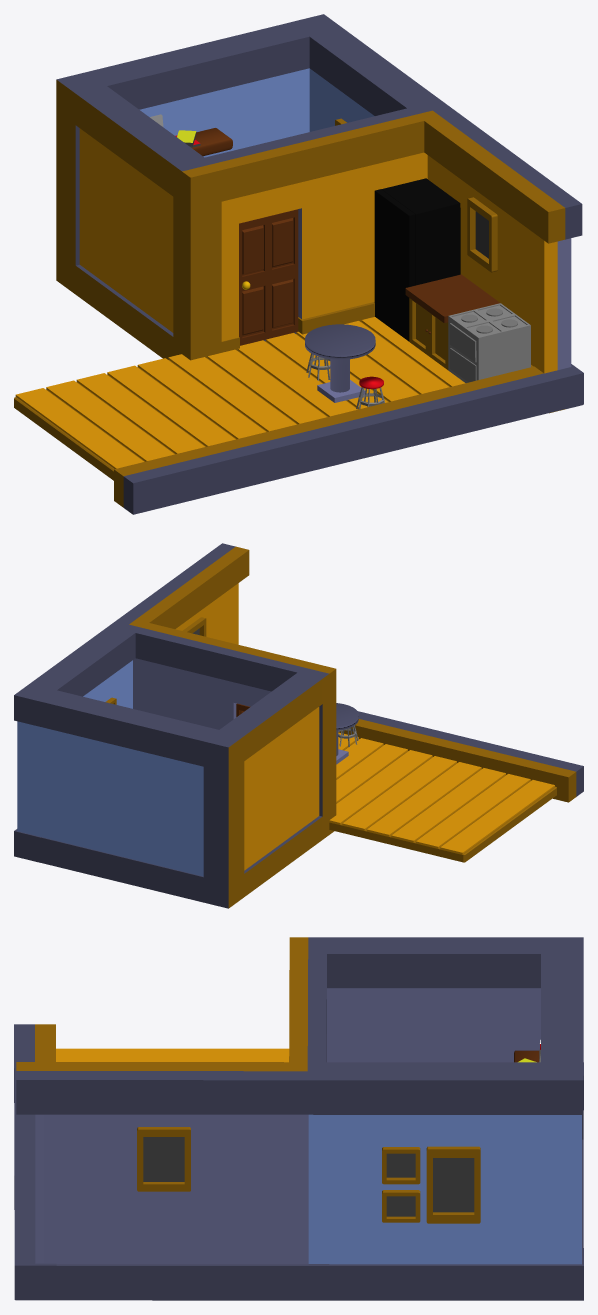
The model's file is models.gltf.
The picture shows the model from 3 angles, top to bottom: view 1: azimuth 30°, elevation 25°; view 2: azimuth 150°, elevation 25°; view 3: azimuth 270°, elevation 25°; orthographic projection. The views are drawn at different scales.
Parts seen in each view (by area): view 1: wall, kitchen_floor, door, fridge_door, stove, fridge, kitchen_table, table, kitchen_window, shelf; view 2: wall, kitchen_floor, table; view 3: wall, room_window, kitchen_window, kitchen_floor.
Boxes of the visible parts, box(x1,y1,x2,y2) form: wall: box(56, 14, 583, 514); kitchen_floor: box(14, 317, 465, 480); door: box(239, 209, 298, 345); fridge_door: box(374, 189, 415, 341); stove: box(448, 303, 530, 382); fridge: box(381, 178, 460, 285); kitchen_table: box(405, 274, 500, 369); table: box(305, 324, 375, 402); kitchen_window: box(467, 197, 497, 272); shelf: box(192, 128, 232, 156); wall: box(14, 543, 583, 908); kitchen_floor: box(329, 732, 556, 862); table: box(336, 703, 358, 764); wall: box(14, 937, 583, 1300); room_window: box(382, 1146, 480, 1223); kitchen_window: box(137, 1127, 190, 1191); kitchen_floor: box(56, 1048, 289, 1062).
Bounding box in the file's own units: 14.21 × 6.04 × 14.16.
